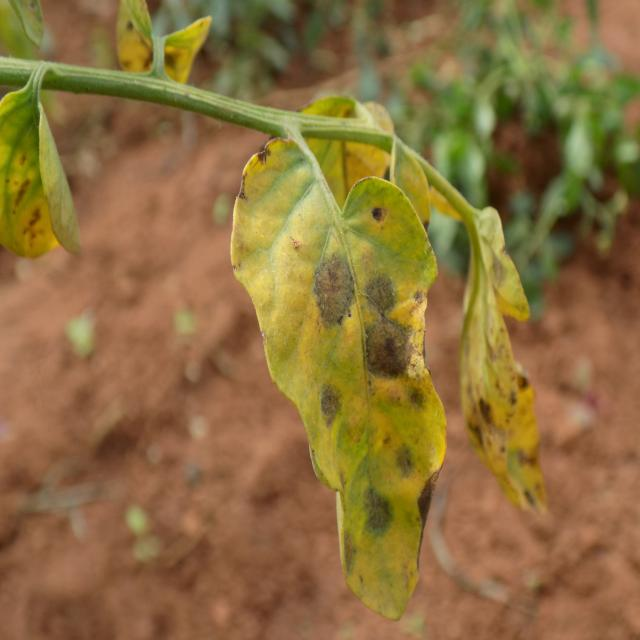tomato_early blight: (232, 134, 450, 620), (462, 200, 560, 518), (289, 88, 396, 278), (0, 80, 88, 254), (117, 0, 213, 95)
